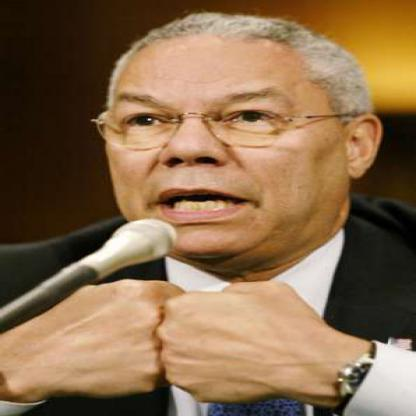face: (98, 14, 352, 264)
